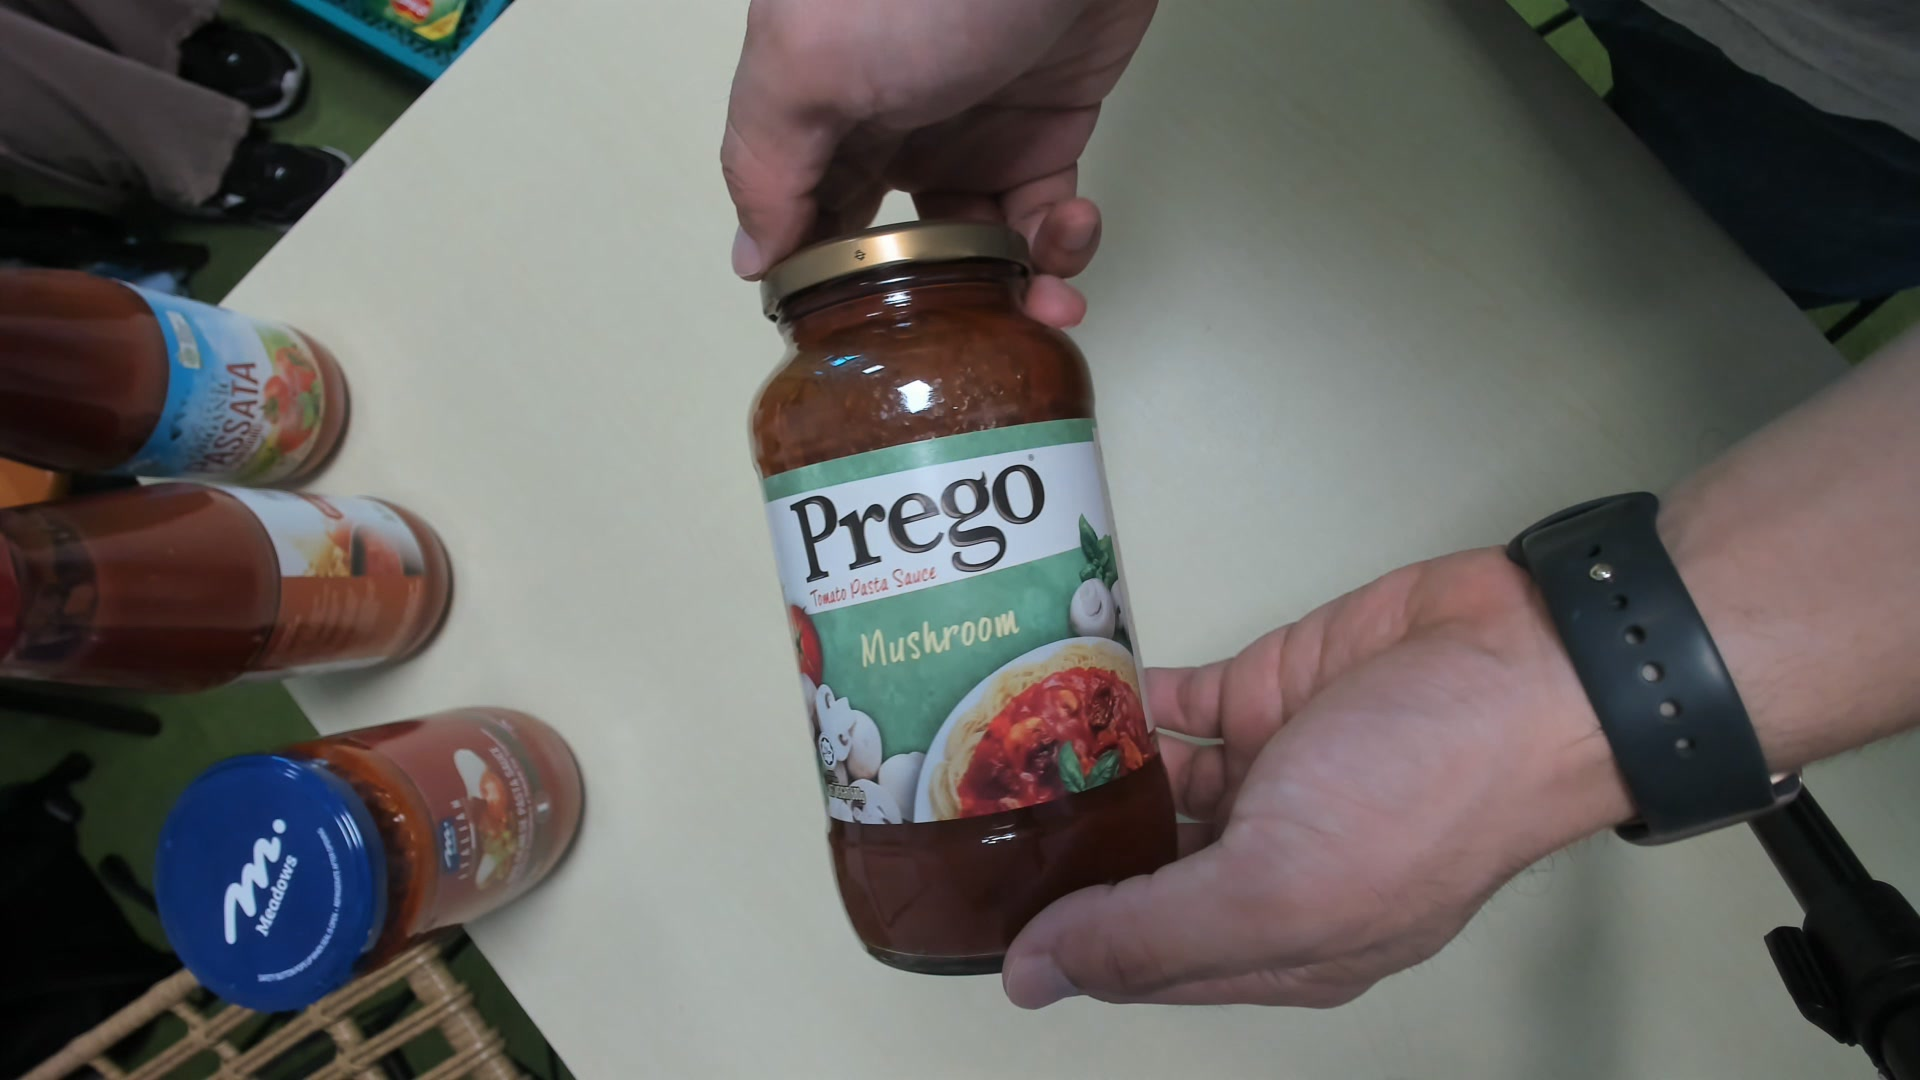PastaSauce_600-699g_Halal_NonHealthy: (752, 225, 1184, 975)
